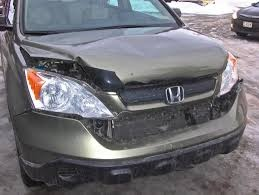Dent: (17, 39, 113, 87)
